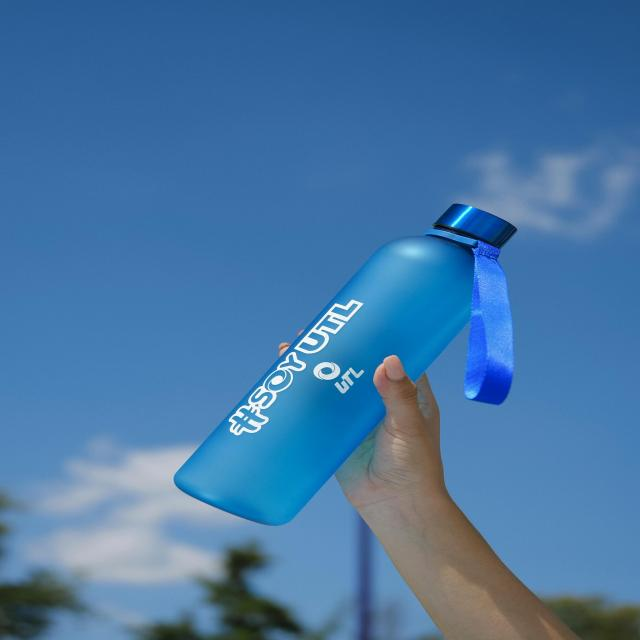blue_bottle: (162, 192, 550, 539)
